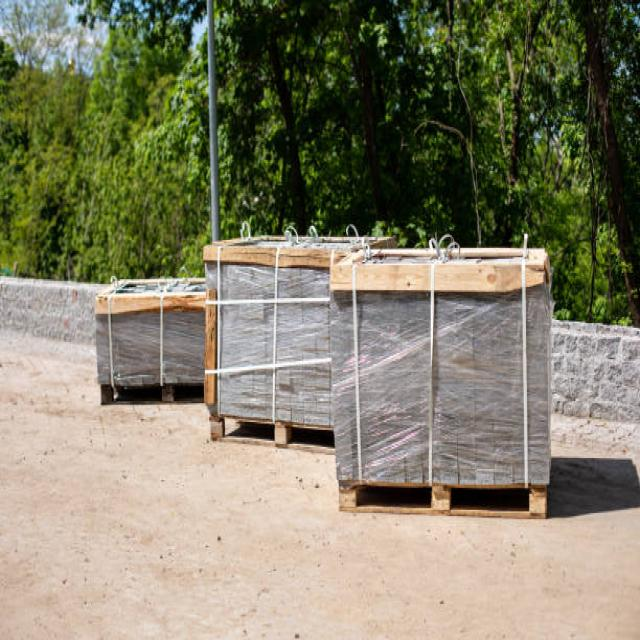Wooden-Pallets: (338, 483, 550, 530), (207, 415, 338, 461), (87, 376, 206, 416)
